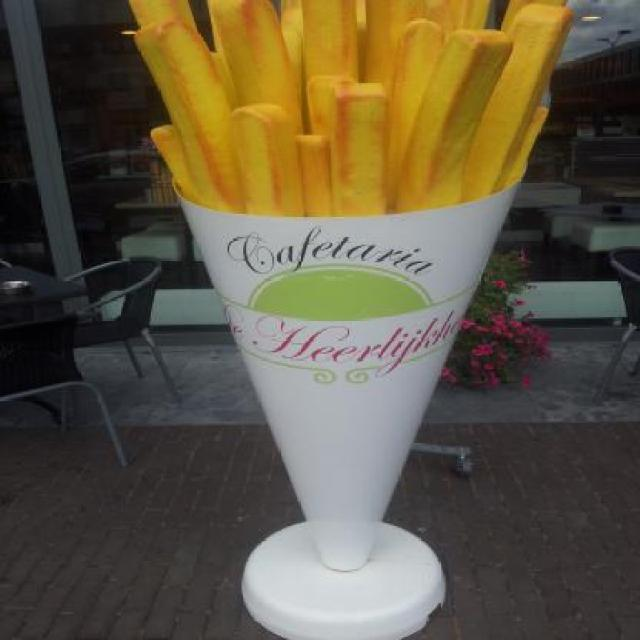French fries: (113, 1, 575, 224)
